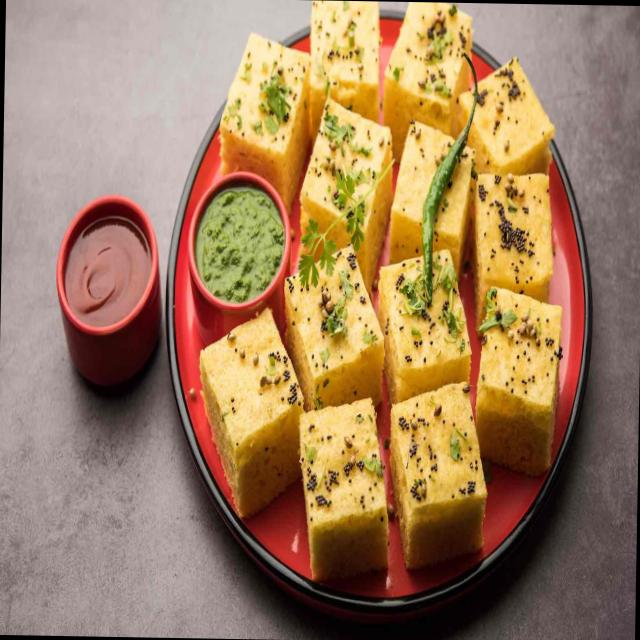dhokla: (203, 6, 568, 578)
